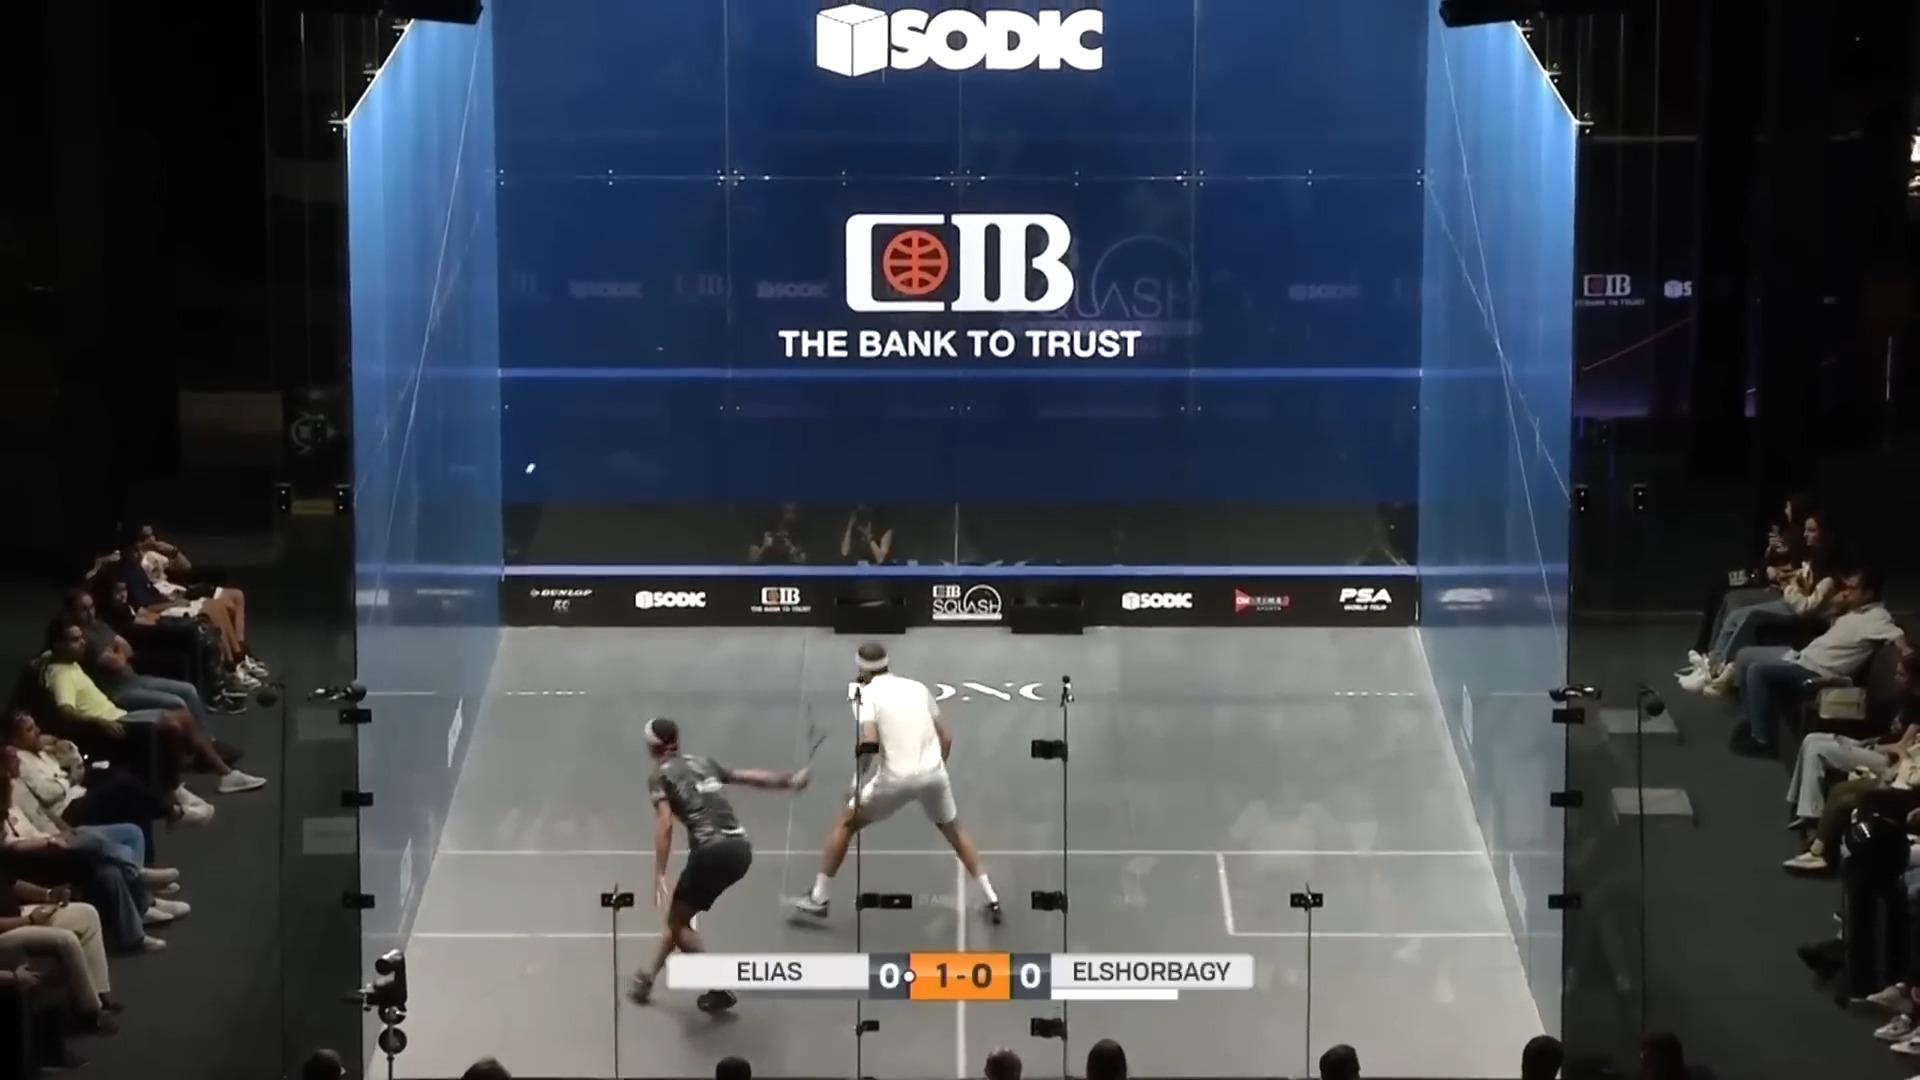Squash-Ball: (513, 448, 549, 488)
